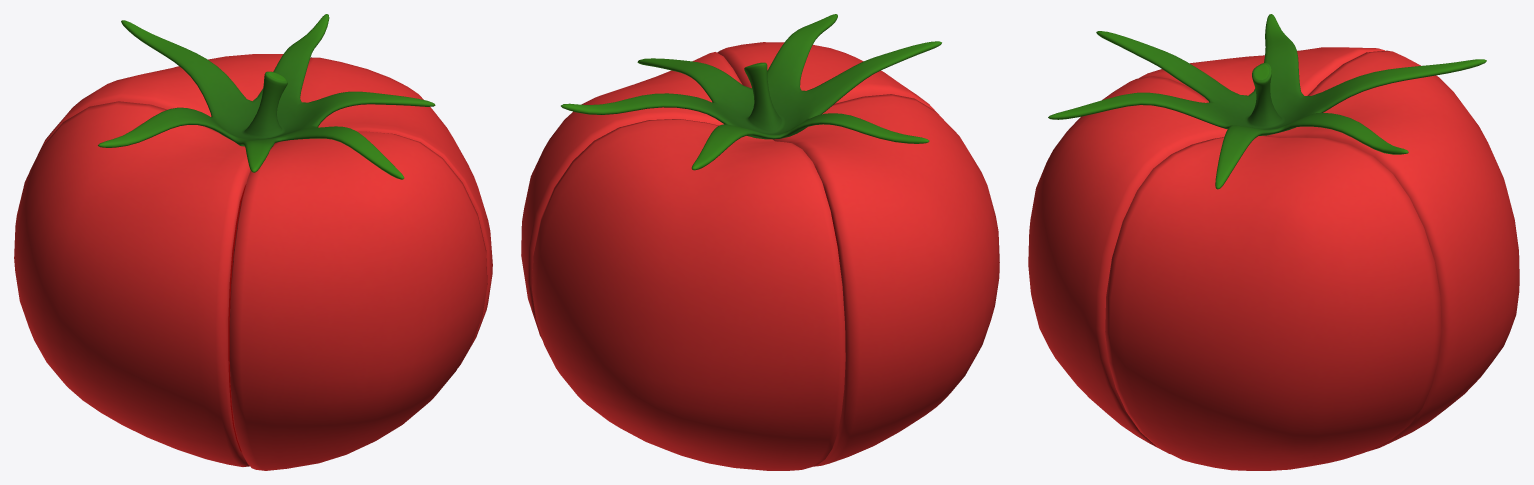
File: Level_new_1.fbx
The picture shows the model from 3 angles, left to right: view 1: azimuth 30°, elevation 25°; view 2: azimuth 150°, elevation 25°; view 3: azimuth 270°, elevation 25°; orthographic projection. The views are drawn at different scales.
Parts seen in each view (by area): view 1: Tomato_003, Tomato_004, Tomato_001, Tomato_002, Tomato_005; view 2: Tomato_005, Tomato_004, Tomato_001, Tomato_002, Tomato_003; view 3: Tomato_002, Tomato_005, Tomato_003, Tomato_001, Tomato_004.
Boxes of the visible parts, box(x1,y1,x2,y2) form: Tomato_003: box(229, 131, 487, 470); Tomato_004: box(14, 101, 250, 466); Tomato_001: box(98, 14, 435, 179); Tomato_002: box(300, 57, 492, 367); Tomato_005: box(29, 54, 283, 171); Tomato_005: box(532, 119, 845, 470); Tomato_004: box(773, 94, 999, 466); Tomato_001: box(561, 14, 941, 170); Tomato_002: box(521, 52, 742, 339); Tomato_003: box(717, 42, 943, 119); Tomato_002: box(1105, 135, 1441, 470); Tomato_005: box(1263, 50, 1519, 451); Tomato_003: box(1028, 76, 1227, 453); Tomato_001: box(1048, 14, 1486, 189); Tomato_004: box(1139, 47, 1385, 95).
Bounding box in the file's own units: 6.4 × 5.48 × 6.3.
1 material, 1 textured.
